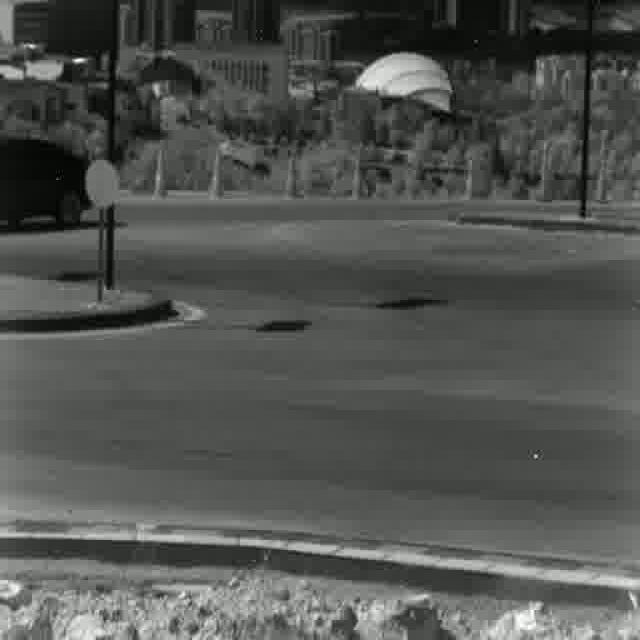Car: (0, 133, 96, 222)
